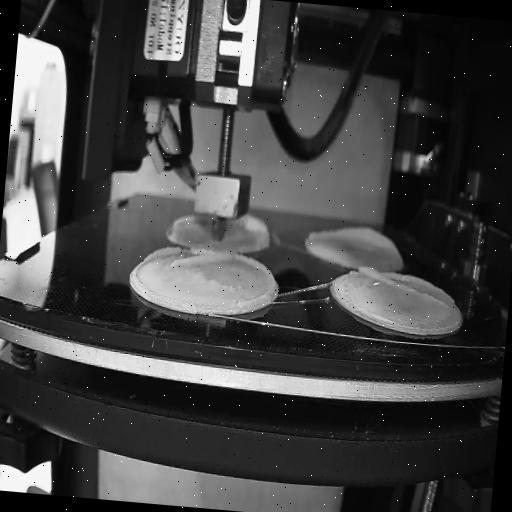over_extrusion: (356, 264, 450, 306), (304, 220, 402, 256), (142, 241, 233, 276), (231, 252, 278, 308), (233, 216, 273, 251), (171, 214, 203, 230)
